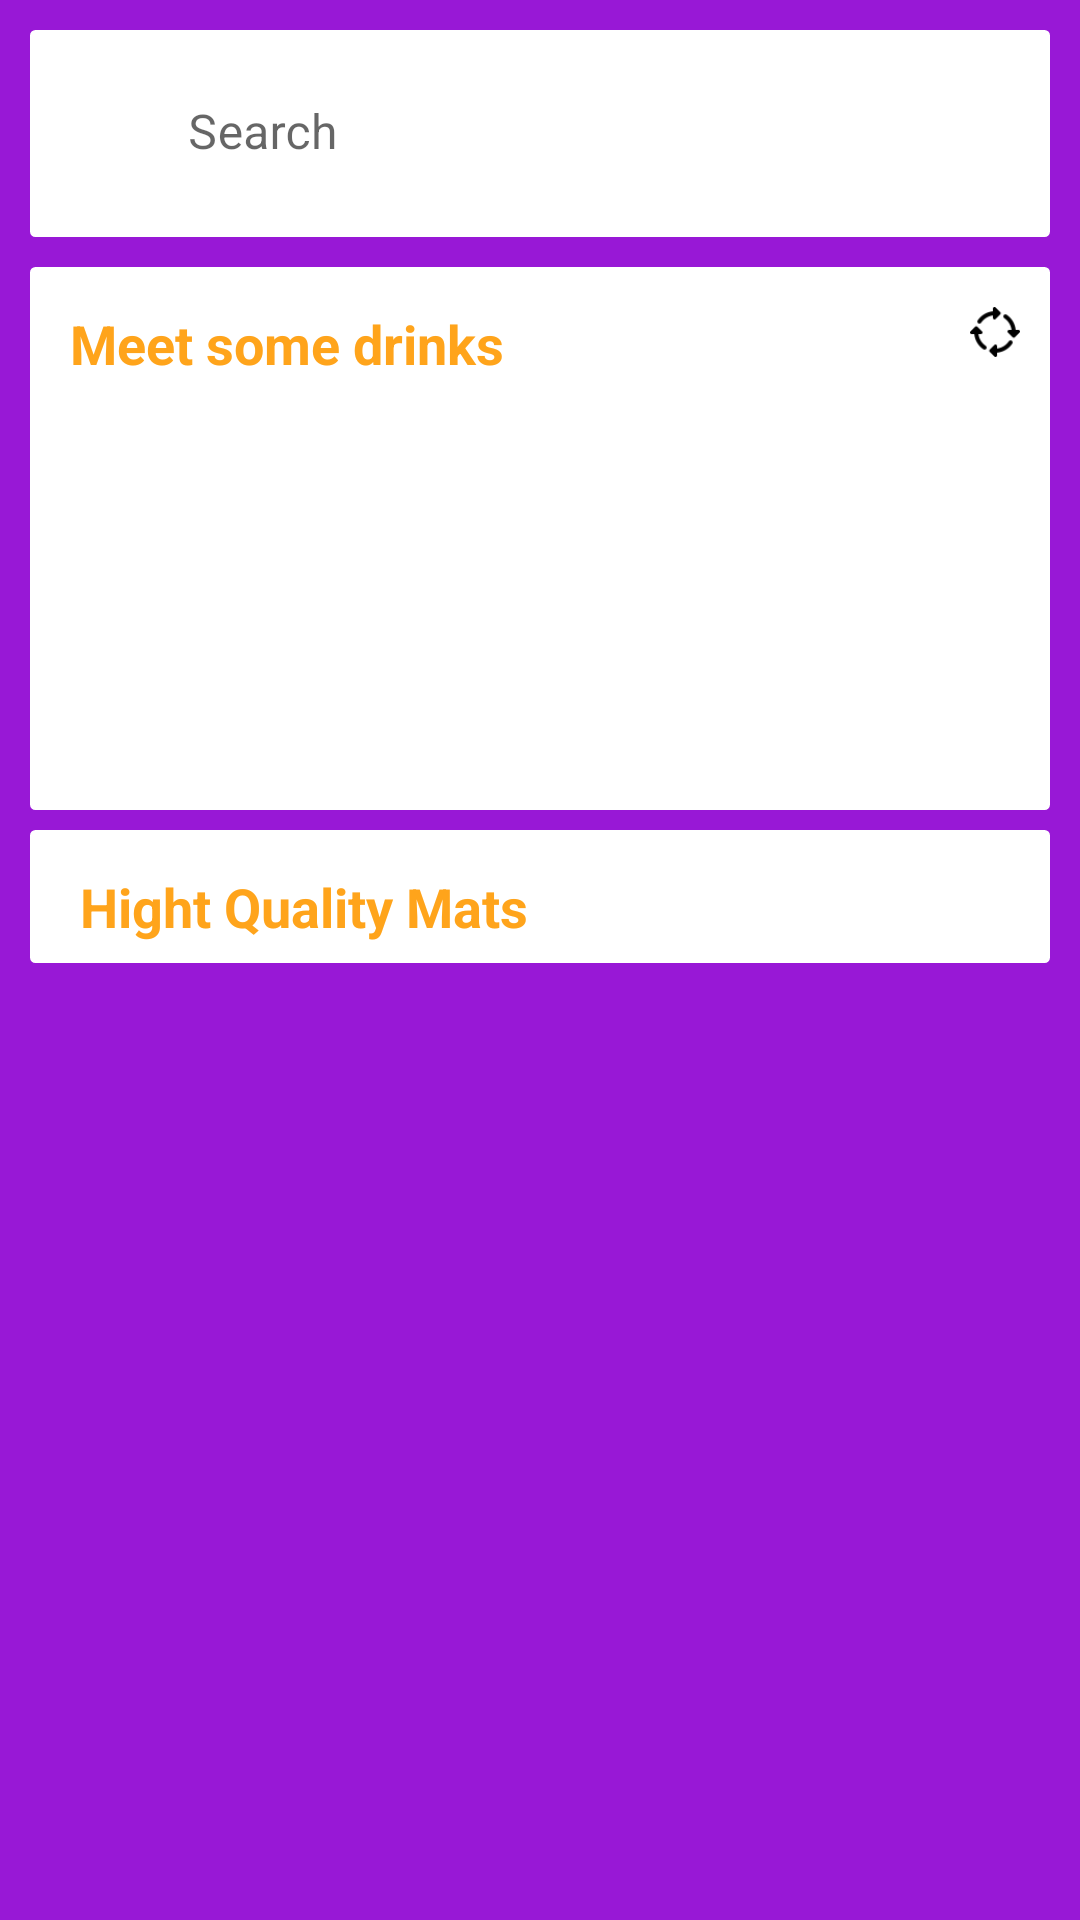

Locate icon controls on the screen. Image size 1080*1920, boxes as (x1, y1, x2, y2).
reload: (970, 307, 1020, 357)
